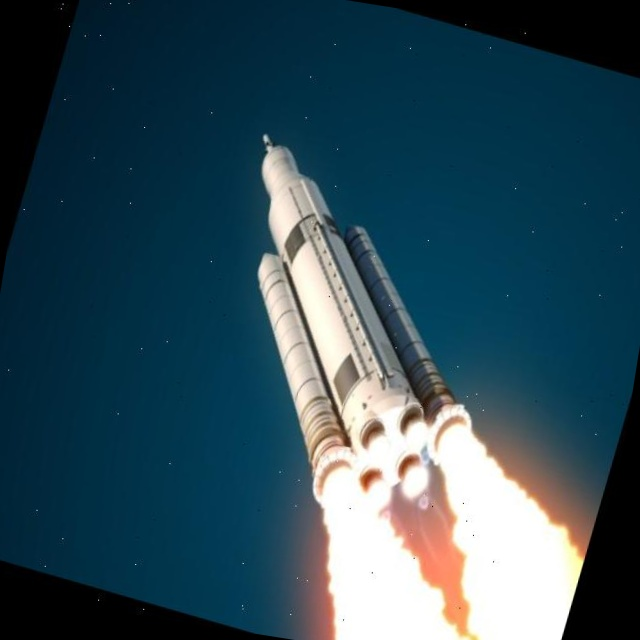rocket: (160, 102, 547, 546)
